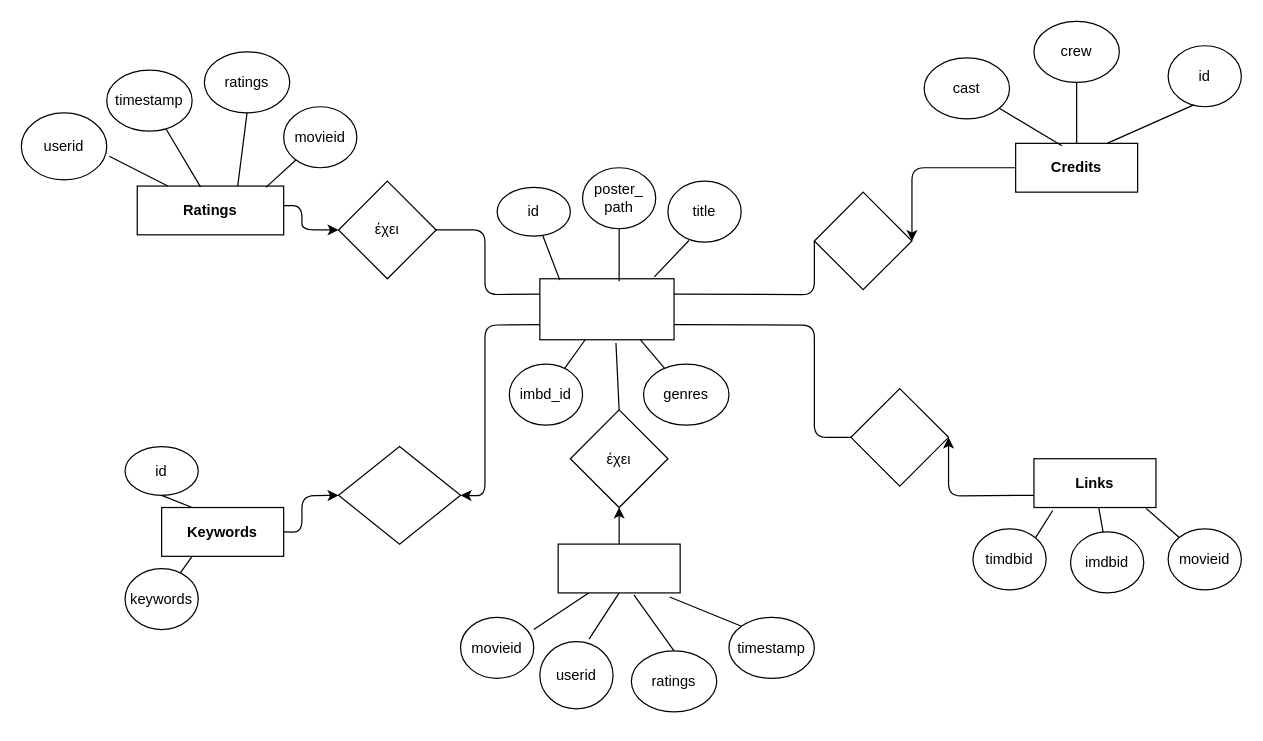
This 1263x741 diagram has some shape labels left out. The shapes that lost their labels are listed below. From the top down, each one's box as (x1, y1, x2, y2) in pixels, then its label:
(813, 191, 912, 290): διαθέτει
(539, 278, 674, 340): Movies_Metadata
(850, 387, 949, 486): δείχνει
(337, 445, 461, 544): χαρακτηρίζεται απο
(557, 543, 680, 593): Ratings_Small
